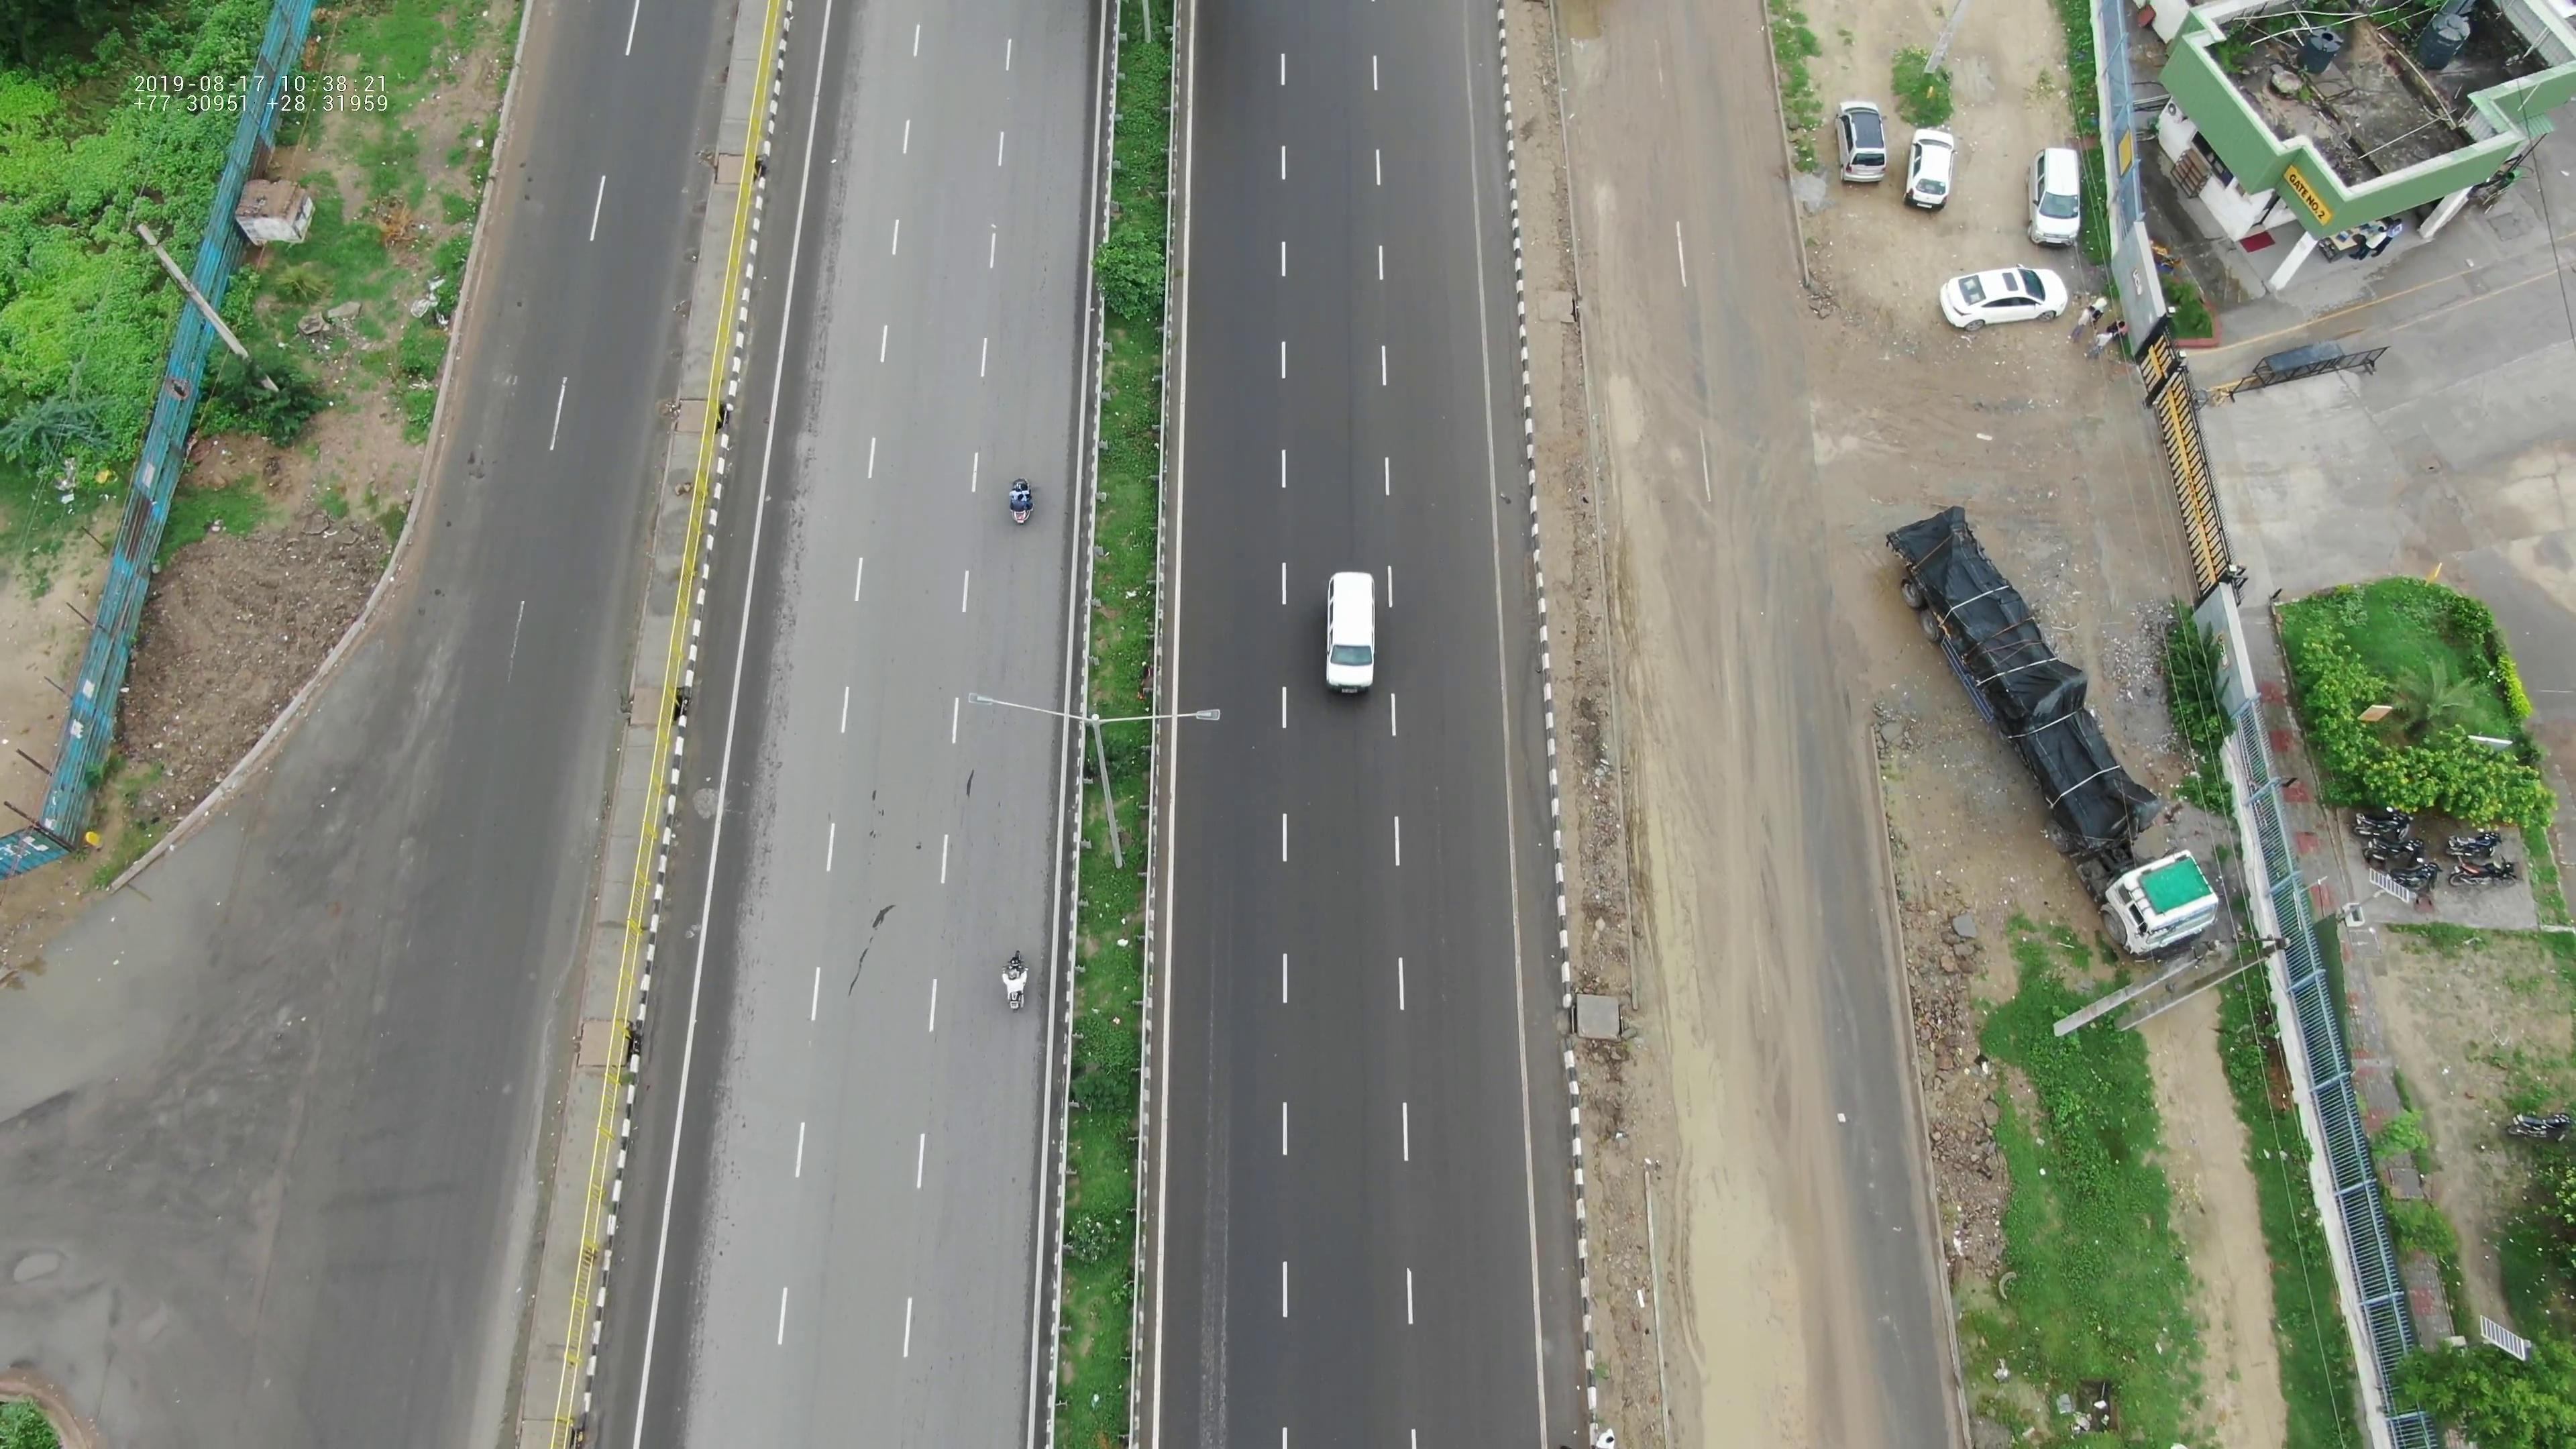Muddy_road: (1608, 364, 1752, 720), (1670, 757, 1792, 1127), (1568, 0, 1668, 315), (1697, 1162, 1801, 1414)
Potholes: (253, 722, 458, 897), (126, 978, 318, 1164), (0, 1231, 90, 1313)
